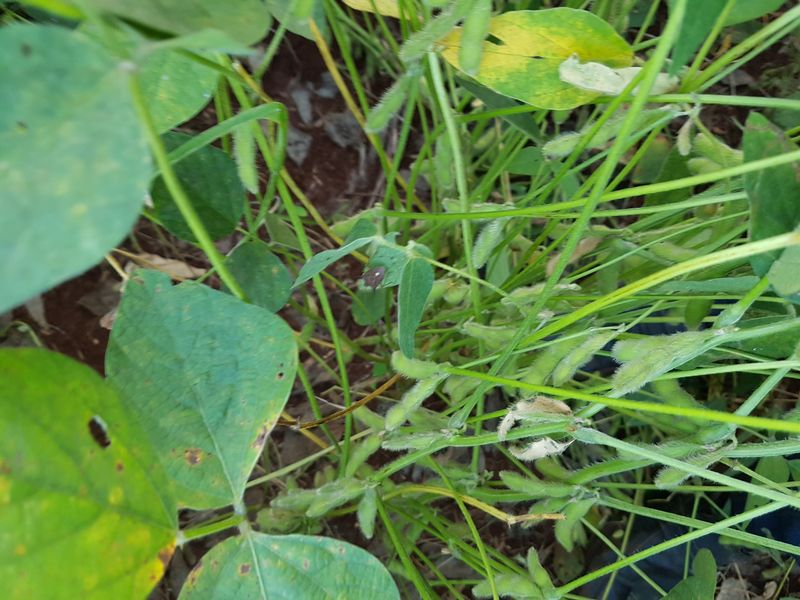Euschistus_heros_adulto: (356, 261, 395, 297)
